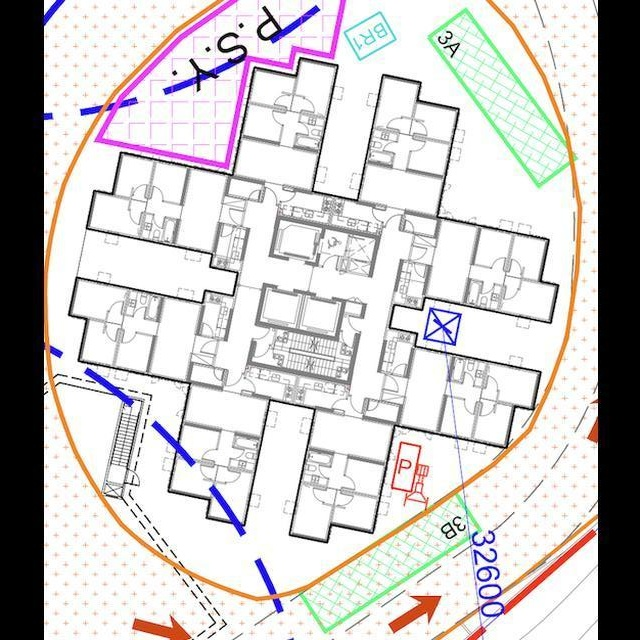tower_crane: (422, 305, 466, 349)
